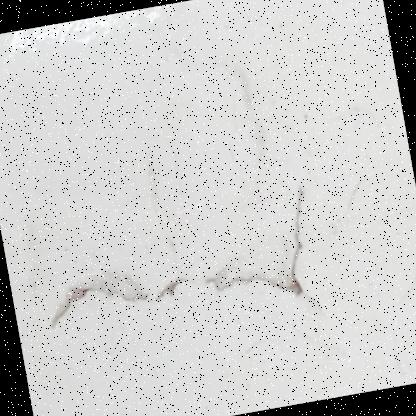Crack: (16, 166, 349, 378)
